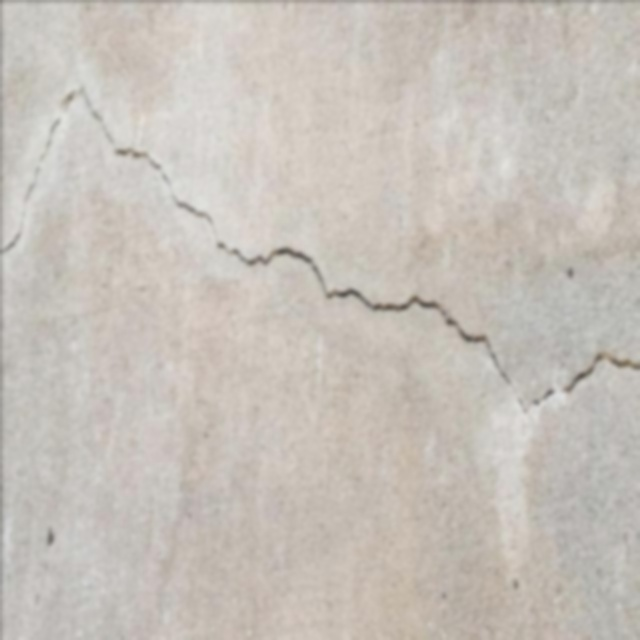SurfaceCrack: (1, 53, 640, 431)
